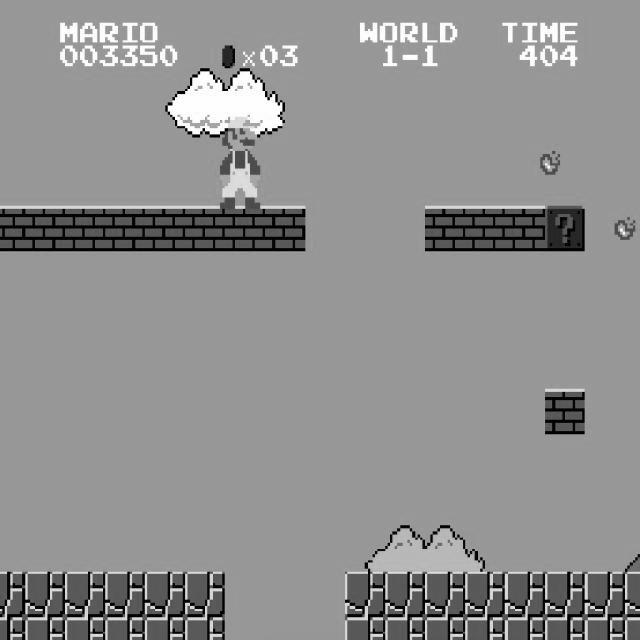1- brick_block: (544, 388, 586, 434), (24, 206, 66, 251), (64, 206, 106, 251), (104, 206, 146, 251), (144, 206, 186, 251), (184, 206, 226, 251), (224, 206, 266, 251), (264, 206, 306, 251), (424, 206, 466, 251), (464, 206, 506, 251), (504, 206, 546, 251), (0, 205, 25, 251)
13- mystery_block: (544, 206, 586, 251)
17- undestructible_block: (24, 572, 66, 618), (64, 572, 106, 618), (104, 572, 146, 618), (144, 572, 186, 618), (184, 572, 226, 618), (344, 572, 386, 618), (384, 572, 426, 618), (424, 572, 466, 618), (464, 572, 506, 618), (504, 572, 546, 618), (544, 572, 586, 618), (584, 572, 626, 618), (0, 571, 25, 617), (24, 617, 66, 640), (64, 617, 106, 640), (104, 617, 146, 640), (144, 617, 186, 640), (184, 617, 226, 640), (344, 617, 386, 640), (384, 617, 426, 640), (424, 617, 466, 640), (464, 617, 506, 640), (504, 617, 546, 640), (544, 617, 586, 640), (584, 617, 626, 640), (625, 572, 640, 618), (0, 617, 25, 639), (625, 617, 640, 640)
4- fire_mario: (218, 114, 260, 208)
5- fireball: (615, 214, 635, 240), (540, 148, 560, 174)
